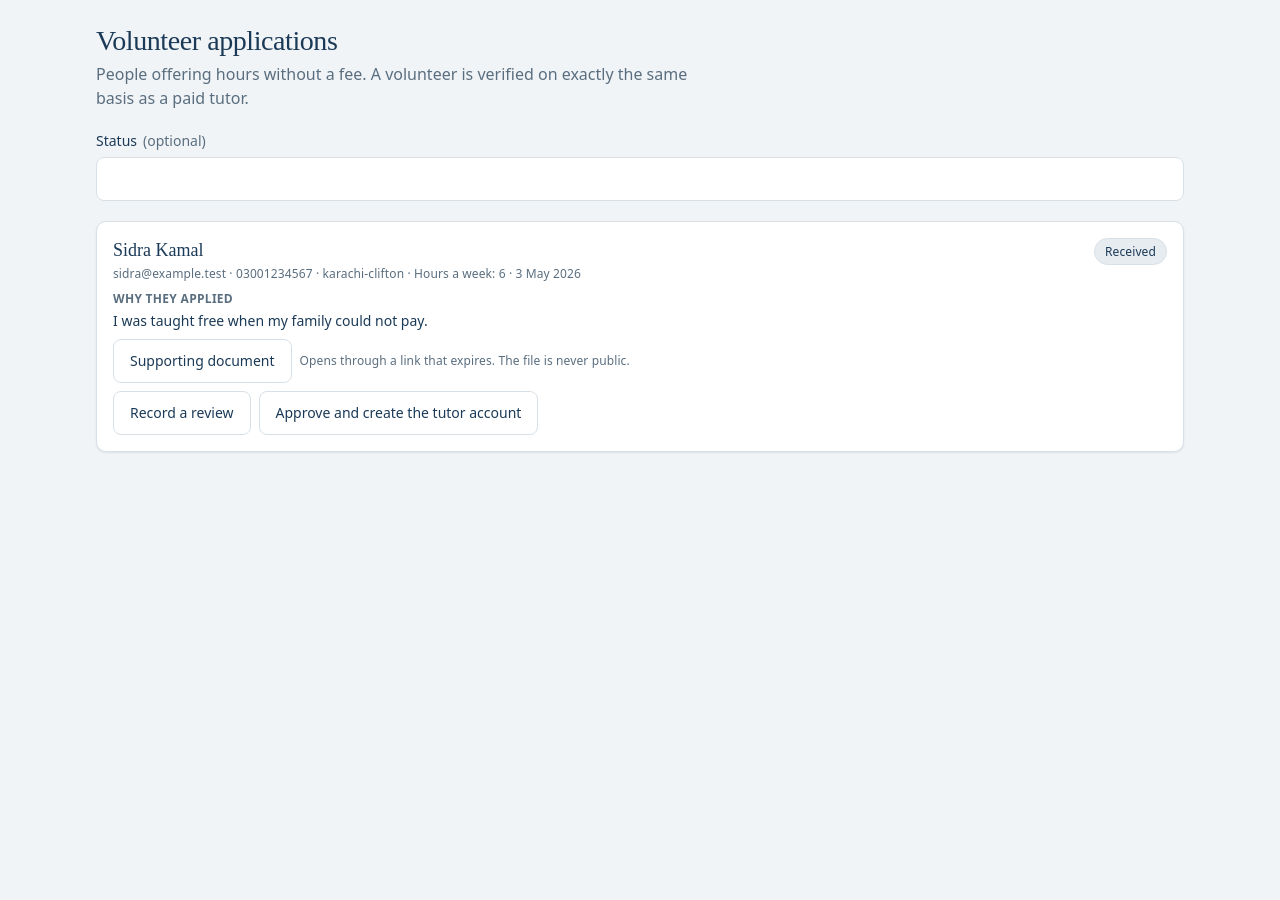
Scenario: volunteer approval › states that approving is not verifying, before the button
Click the button "Approve and create the tutor account" at (398, 413), box [258,391,538,435]
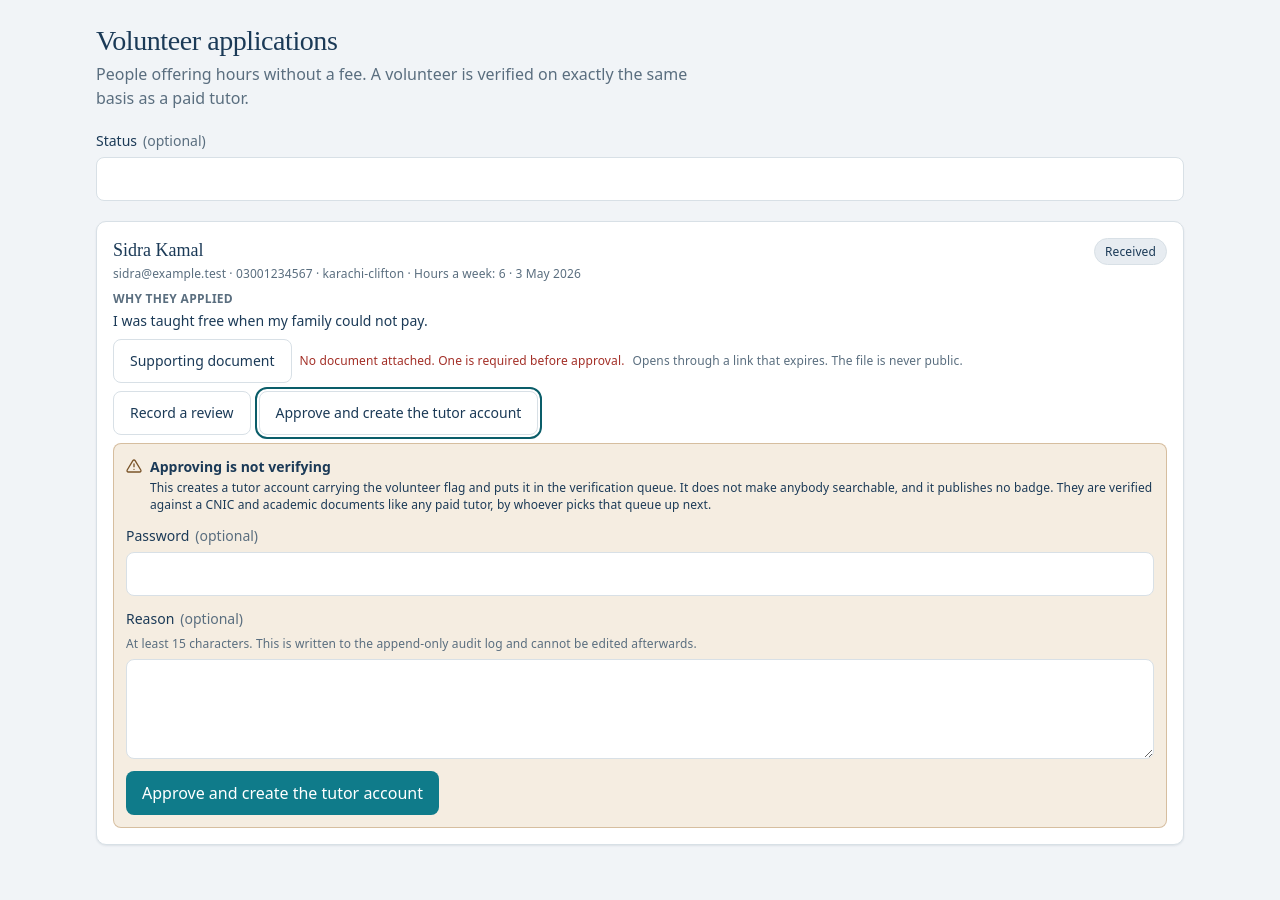
Expected: the heading "Approving is not verifying" is shown, [150,457,331,476]
